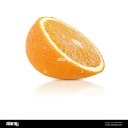orange: (24, 14, 107, 81)
